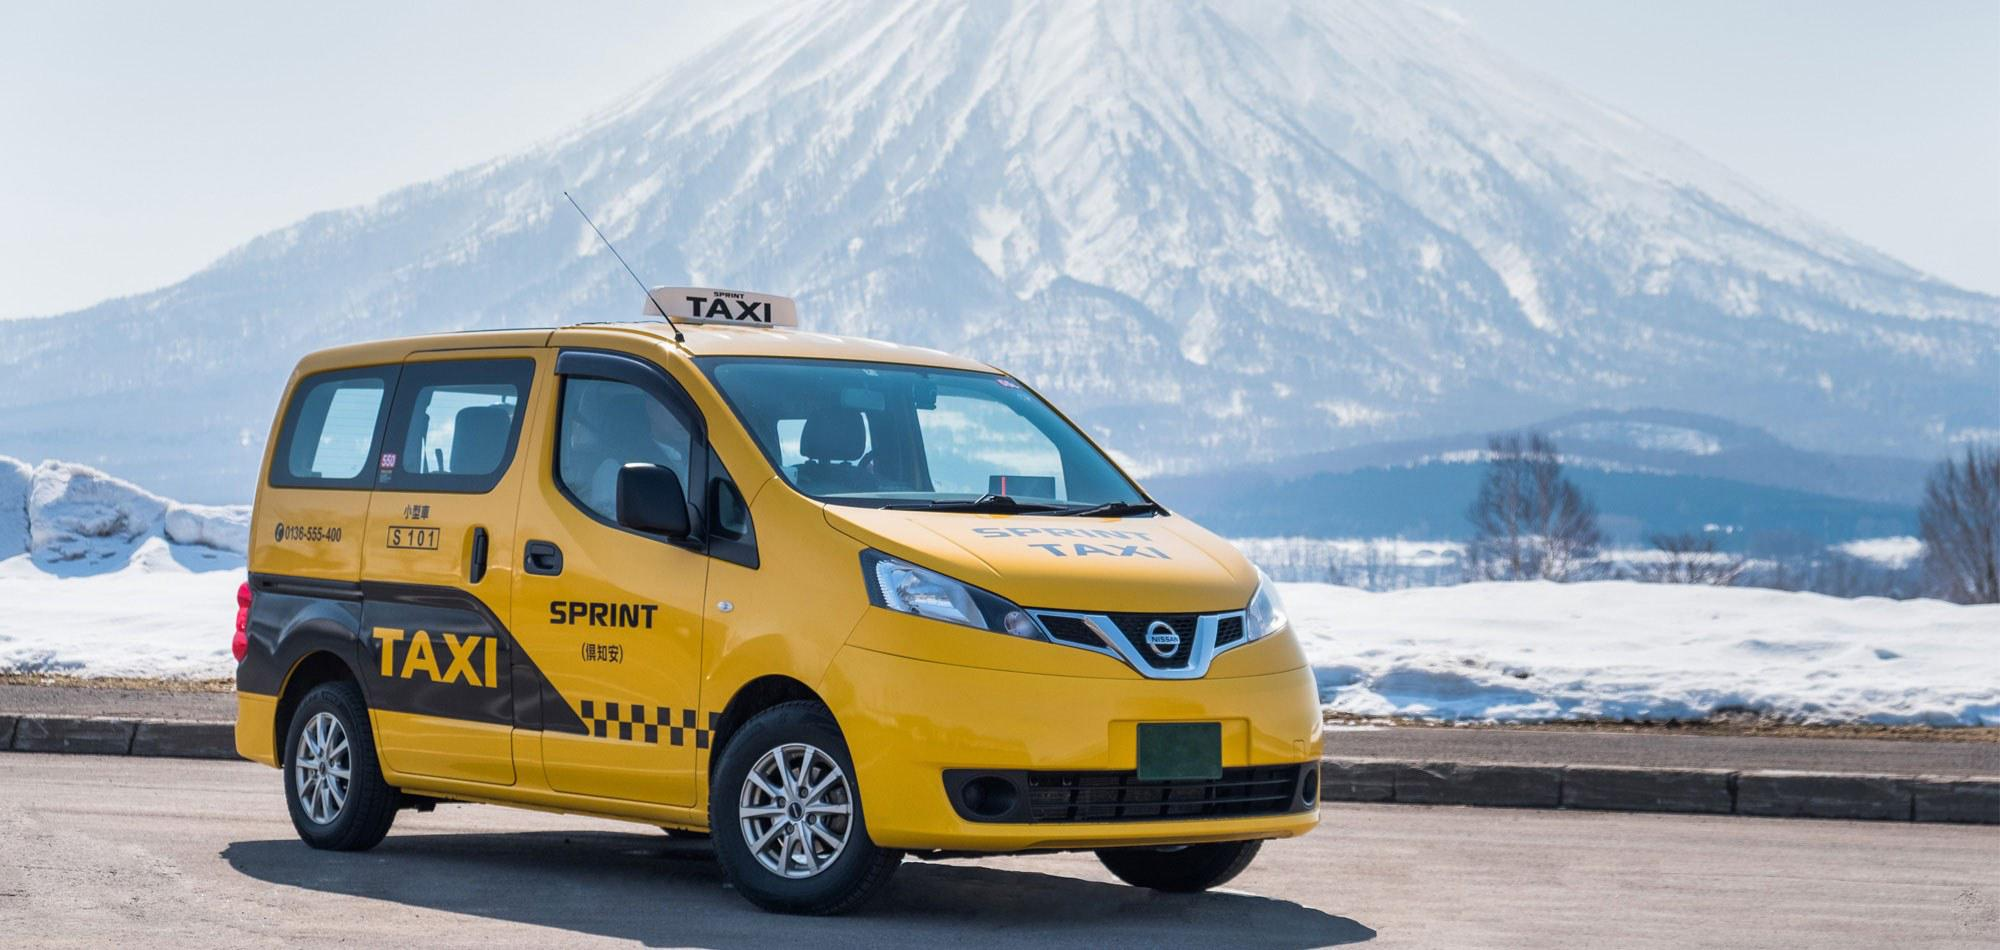taxi: (213, 298, 1372, 903)
